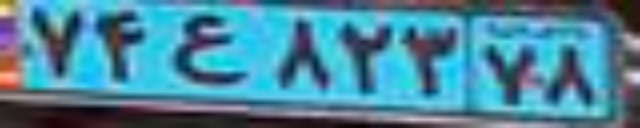2: (337, 20, 399, 95)
3: (403, 24, 458, 95)
4: (89, 9, 144, 82)
7: (479, 41, 537, 106), (26, 7, 79, 77)
8: (272, 17, 330, 92), (540, 43, 595, 109)
ain: (168, 14, 252, 83)
